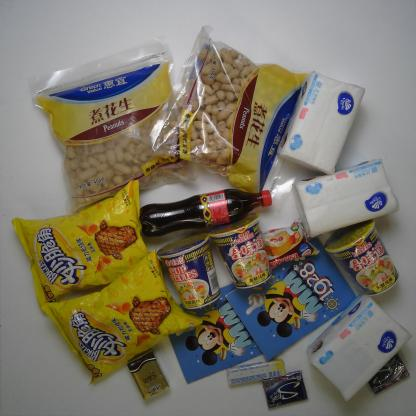Candy: (226, 358, 286, 386)
Dessert: (260, 216, 320, 271)
Dried Food: (29, 36, 200, 217), (142, 23, 311, 200)
Drink: (138, 188, 272, 237)
Gum: (367, 352, 411, 396), (261, 370, 308, 409)
Instant Noodles: (322, 218, 400, 298), (208, 212, 273, 290), (157, 232, 222, 310)
Puffed Food: (41, 247, 204, 387), (11, 179, 152, 311)
Stationery: (226, 236, 358, 362), (166, 279, 281, 386)
Tissue: (306, 292, 413, 402), (277, 71, 366, 176), (292, 157, 400, 239), (126, 348, 170, 401)
